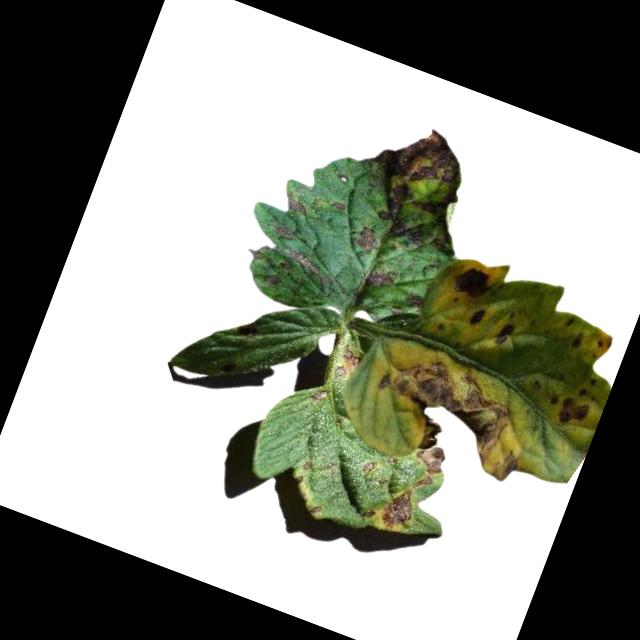Early_blight: (365, 341, 543, 481), (354, 109, 492, 256), (274, 241, 338, 291), (411, 412, 459, 475), (451, 257, 500, 302), (378, 481, 420, 533), (557, 388, 596, 430), (362, 260, 402, 295), (334, 344, 363, 382), (354, 223, 385, 256), (280, 188, 311, 217), (494, 318, 518, 349), (466, 301, 490, 330), (414, 469, 437, 493), (274, 221, 299, 241), (329, 195, 351, 215), (308, 385, 331, 403), (569, 330, 588, 351), (360, 457, 377, 475), (300, 455, 316, 474), (308, 499, 324, 516)
